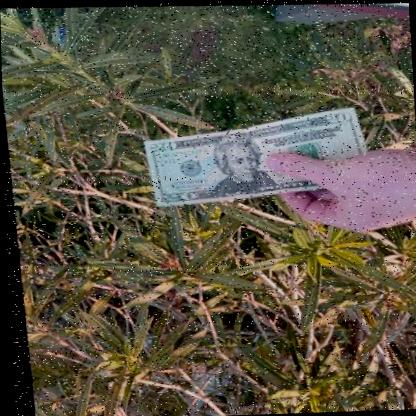twenty-front: (140, 104, 371, 205)
